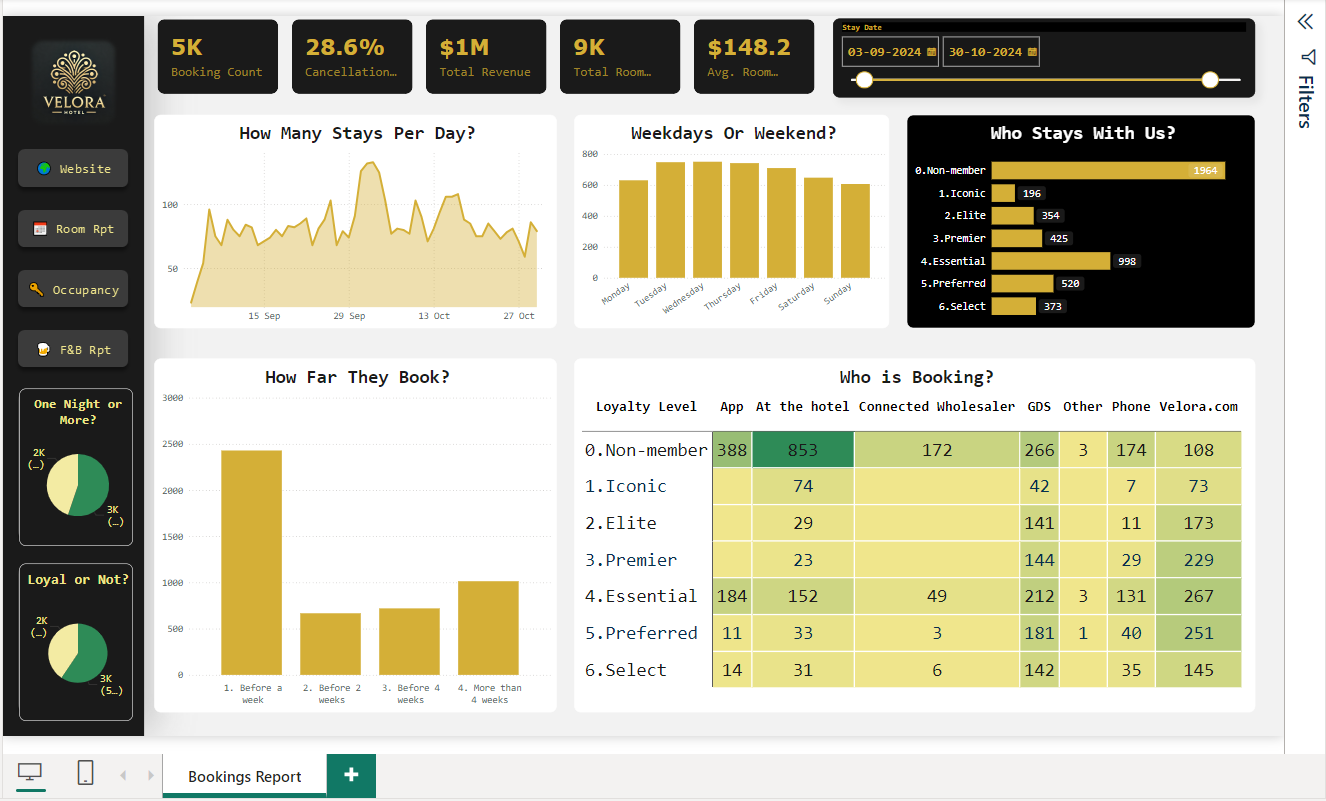

The page's visual inventory and layout, read from the dashboard file:
{"tool":"powerbi","page":{"name":"Bookings Report","canvas":[1920,1080],"ordinal":0},"visuals":[{"type":"cardVisual","fields":{"Data":["bookings.Booking Count","bookings.Cancellation Pct","bookings.Total Revenue","bookings.Total Room Nights","bookings.Avg. Room Rate"]},"box":[227.1,0,995.7,122.9],"z":0},{"type":"lineChart","title":"How Many Stays Per Day?","fields":{"Category":["bookings.Stay Date"],"Y":["bookings.Booking Count"]},"box":[226.7,148,603.3,320.4],"z":1000},{"type":"slicer","fields":{"Values":["bookings.Stay Date"]},"box":[1244.3,4.3,632.9,118.6],"z":2000},{"type":"clusteredColumnChart","title":"Weekdays Or Weekend?","fields":{"Category":["bookings.Day Name"],"Y":["bookings.Booking Count"]},"box":[856.2,148,472.1,320.4],"z":3000},{"type":"clusteredBarChart","title":"Who Stays With Us?","fields":{"Category":["bookings.Loyalty Level"],"Y":["bookings.Booking Count"]},"box":[1354.6,148,522.7,320.4],"z":4000},{"type":"clusteredColumnChart","title":"How Far They Book?","fields":{"Category":["bookings.How far away bucket"],"Y":["bookings.Booking Count"]},"box":[226.7,513.4,603.3,530.2],"z":5000},{"type":"pivotTable","title":"Who is Booking?","fields":{"Rows":["bookings.Loyalty Level"],"Columns":["bookings.Booking Channel"],"Values":["bookings.Booking Count"]},"box":[856.2,513.4,1021.1,530.2],"z":6000},{"type":"pieChart","title":"One Night or More?","fields":{"Y":["bookings.Multi-night booking count","bookings.Single night booking count"]},"box":[24.4,558.3,170.5,236.1],"z":7000},{"type":"pieChart","title":"Loyal or Not?","fields":{"Y":["bookings.Loyal Customer Booking Count","bookings.Not Loyal Customer Booking Count"]},"box":[24.4,820.6,170.5,236.1],"z":8000}]}

Visuals, with their boxes in screenshot pixels (x1, y1, x2, y2):
cardVisual - bookings.Booking Count x bookings.Cancellation Pct: (137,10,816,94)
"How Many Stays Per Day?" lineChart: (137,111,548,329)
slicer - bookings.Stay Date: (830,13,1261,94)
"Weekdays Or Weekend?" clusteredColumnChart: (566,111,887,329)
"Who Stays With Us?" clusteredBarChart: (905,111,1261,329)
"How Far They Book?" clusteredColumnChart: (137,360,548,721)
"Who is Booking?" pivotTable: (566,360,1261,721)
"One Night or More?" pieChart: (0,391,115,551)
"Loyal or Not?" pieChart: (0,569,115,730)
